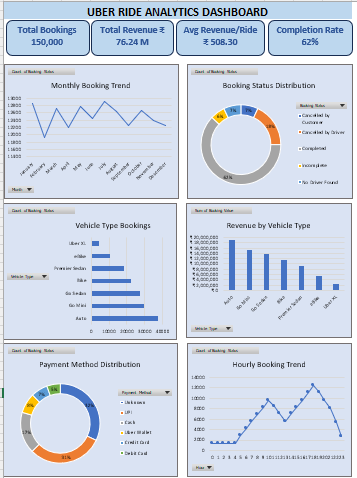

The page's visual inventory and layout, read from the dashboard file:
{"tool":"powerbi","page":{"name":"Page 1","canvas":[1280,720],"ordinal":0},"visuals":[{"type":"card","fields":{"Values":["cleaned_ncr_ride_bookings.Total Bookings"]},"box":[13.5,67.1,230,90],"z":0},{"type":"card","fields":{"Values":["cleaned_ncr_ride_bookings.Total Revenue"]},"box":[271.4,67.1,230,90],"z":1000},{"type":"card","fields":{"Values":["cleaned_ncr_ride_bookings.Avg Revenue Per Ride"]},"box":[528.5,67.1,230,90],"z":2000},{"type":"card","fields":{"Values":["cleaned_ncr_ride_bookings.Completion Rate"]},"box":[776.8,67.1,230,90],"z":3000},{"type":"card","fields":{"Values":["cleaned_ncr_ride_bookings.Cancellation Rate"]},"box":[1028.5,67.1,230,90],"z":4000},{"type":"lineChart","title":"Monthly Booking Trend","fields":{"Category":["cleaned_ncr_ride_bookings.Month"],"Y":["cleaned_ncr_ride_bookings.Total Bookings"]},"box":[14.3,232,486.7,191],"z":5000},{"type":"clusteredColumnChart","title":"Revenue by Vehicle Type","fields":{"Category":["cleaned_ncr_ride_bookings.Vehicle Type"],"Y":["cleaned_ncr_ride_bookings.Total Revenue"]},"box":[870,231.7,385,191.7],"z":6000},{"type":"clusteredBarChart","title":"Bookings by Vehicle Type","fields":{"Y":["cleaned_ncr_ride_bookings.Total Bookings"],"Category":["cleaned_ncr_ride_bookings.Vehicle Type"]},"box":[15,428.3,358.3,286.7],"z":7000},{"type":"donutChart","title":"Booking Status Distribution","fields":{"Category":["cleaned_ncr_ride_bookings.Booking Status"],"Y":["cleaned_ncr_ride_bookings.Total Bookings"]},"box":[515.4,232,338.8,191],"z":8000},{"type":"textbox","box":[0,0,1278.3,66.7],"z":9000},{"type":"lineChart","title":"Hourly Booking Trend","fields":{"Y":["cleaned_ncr_ride_bookings.Total Bookings"],"Category":["cleaned_ncr_ride_bookings.Hour"]},"box":[728.6,428.6,525.7,204.3],"z":10000},{"type":"donutChart","title":"Payment Method Distribution","fields":{"Category":["cleaned_ncr_ride_bookings.Payment Method"],"Y":["cleaned_ncr_ride_bookings.Total Bookings"]},"box":[388.6,428.6,325.7,204.3],"z":11000},{"type":"slicer","fields":{"Values":["cleaned_ncr_ride_bookings.Month"]},"box":[15,161.9,400,65],"z":12000},{"type":"slicer","fields":{"Values":["cleaned_ncr_ride_bookings.Vehicle Type"]},"box":[436.7,161.9,401.7,65],"z":13000},{"type":"slicer","fields":{"Values":["cleaned_ncr_ride_bookings.Payment Method"]},"box":[855,161.9,400,65],"z":14000},{"type":"textbox","box":[388.6,634.7,602.4,84.2],"z":15000},{"type":"textbox","box":[1002.3,634.7,252.6,82.6],"z":16000}]}

Visuals, with their boxes on the page's 1280x720 design canvas (x1, y1, x2, y2). These are canvas units, not pixel positions in the 357x478 screenshot, which may show the page scaled, cropped or inside an application window:
card - cleaned_ncr_ride_bookings.Total Bookings: (14, 67, 244, 157)
card - cleaned_ncr_ride_bookings.Total Revenue: (271, 67, 501, 157)
card - cleaned_ncr_ride_bookings.Avg Revenue Per Ride: (528, 67, 758, 157)
card - cleaned_ncr_ride_bookings.Completion Rate: (777, 67, 1007, 157)
card - cleaned_ncr_ride_bookings.Cancellation Rate: (1028, 67, 1258, 157)
"Monthly Booking Trend" lineChart: (14, 232, 501, 423)
"Revenue by Vehicle Type" clusteredColumnChart: (870, 232, 1255, 423)
"Bookings by Vehicle Type" clusteredBarChart: (15, 428, 373, 715)
"Booking Status Distribution" donutChart: (515, 232, 854, 423)
textbox: (0, 0, 1278, 67)
"Hourly Booking Trend" lineChart: (729, 429, 1254, 633)
"Payment Method Distribution" donutChart: (389, 429, 714, 633)
slicer - cleaned_ncr_ride_bookings.Month: (15, 162, 415, 227)
slicer - cleaned_ncr_ride_bookings.Vehicle Type: (437, 162, 838, 227)
slicer - cleaned_ncr_ride_bookings.Payment Method: (855, 162, 1255, 227)
textbox: (389, 635, 991, 719)
textbox: (1002, 635, 1255, 717)
